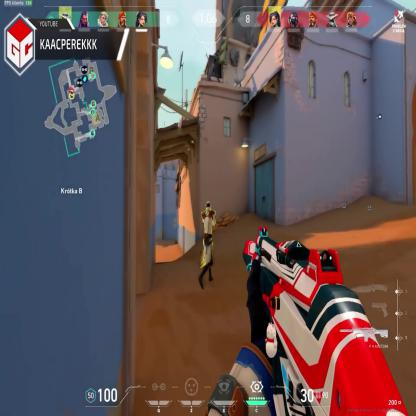enemy: (198, 198, 215, 289)
enemy_head: (204, 200, 214, 210)
